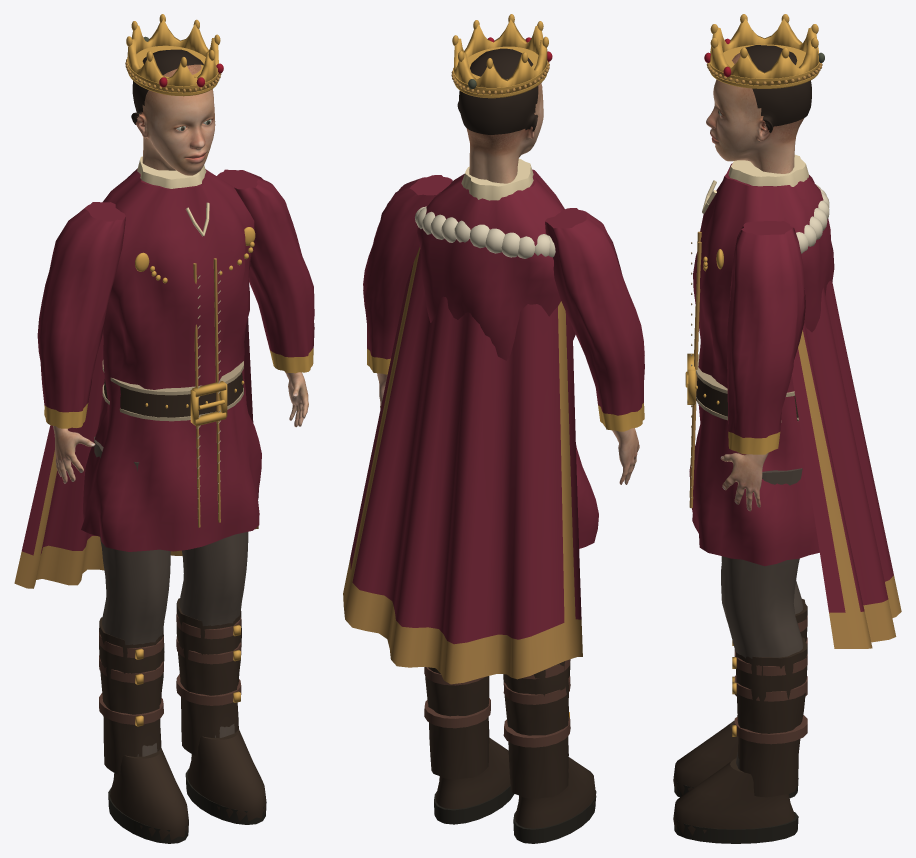
The model's file is roi.glb.
3 renders of one model, left to right at view 1: azimuth 30°, elevation 25°; view 2: azimuth 150°, elevation 25°; view 3: azimuth 270°, elevation 25°, orthographic. The views are drawn at different scales.
Visible parts, largest first — view 1: roi_Maillage, roi_JambeG, roi_JambeD, roi_BrasG, roi_BrasD, roi_Tete, roi_Coiffure; view 2: roi_Maillage, roi_BrasG, roi_JambeG, roi_JambeD, roi_BrasD, roi_Coiffure, roi_Tete; view 3: roi_Maillage, roi_JambeD, roi_BrasD, roi_Tete, roi_JambeG, roi_Coiffure.
Part boxes in pixels (x1,y1,x2,y2): roi_Maillage: (14, 14, 261, 588); roi_JambeG: (94, 436, 188, 843); roi_JambeD: (176, 532, 266, 824); roi_BrasG: (37, 202, 125, 483); roi_BrasD: (217, 169, 314, 427); roi_Tete: (135, 64, 215, 175); roi_Coiffure: (131, 49, 203, 124); roi_Maillage: (343, 14, 598, 684); roi_BrasG: (545, 208, 644, 484); roi_JambeG: (503, 659, 596, 843); roi_JambeD: (424, 667, 514, 824); roi_BrasD: (363, 175, 452, 409); roi_Coiffure: (457, 48, 538, 134); roi_Tete: (466, 83, 543, 183); roi_Maillage: (685, 14, 901, 648); roi_JambeD: (673, 468, 807, 843); roi_BrasD: (720, 221, 805, 511); roi_Tete: (706, 53, 804, 173); roi_JambeG: (673, 556, 807, 798); roi_Coiffure: (745, 45, 811, 132).
Bounding box in the file's own units: 0.6665 × 1.84 × 0.4869.
Materials: 16 (1 with a texture image).
